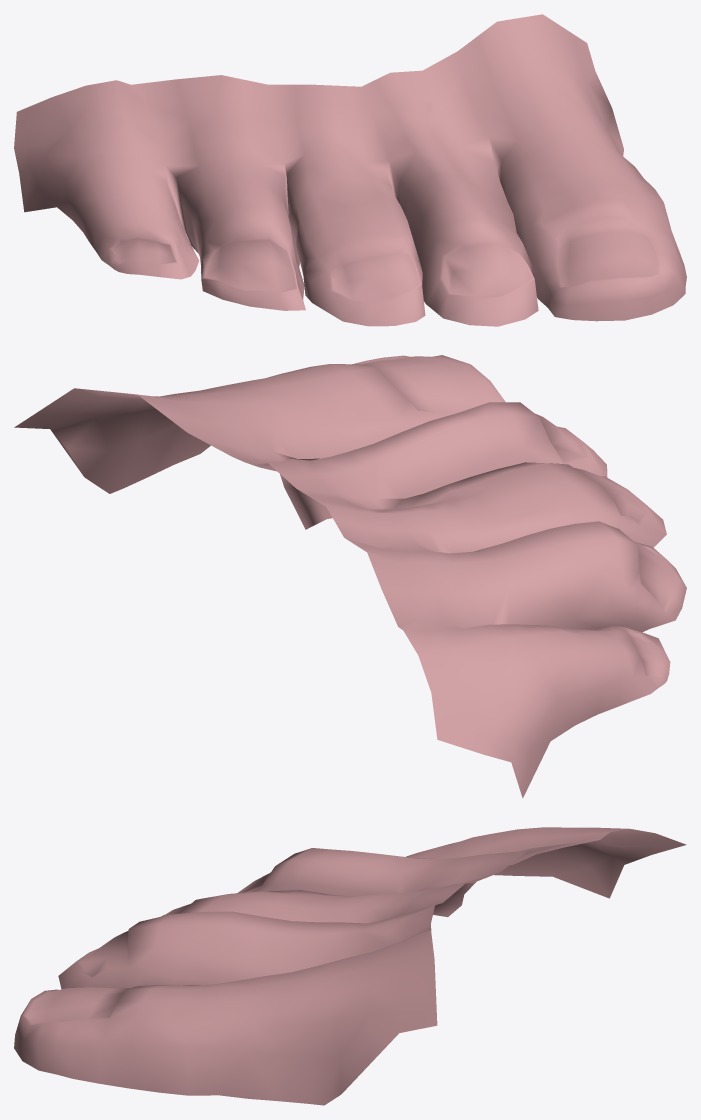
3 views of the same model, one above another, from view 1: azimuth 30°, elevation 25°; view 2: azimuth 150°, elevation 25°; view 3: azimuth 270°, elevation 25° (orthographic). The views are drawn at different scales.
Visible parts, largest first — view 1: ZA_e3240e4721347820; view 2: ZA_e3240e4721347820; view 3: ZA_e3240e4721347820.
Part boxes in pixels (x1,y1,x2,y2): ZA_e3240e4721347820: (14,14,686,326); ZA_e3240e4721347820: (14,355,686,798); ZA_e3240e4721347820: (14,827,686,1105).
Size of the model in its own units: 0.0865 by 0.0267 by 0.0983.
